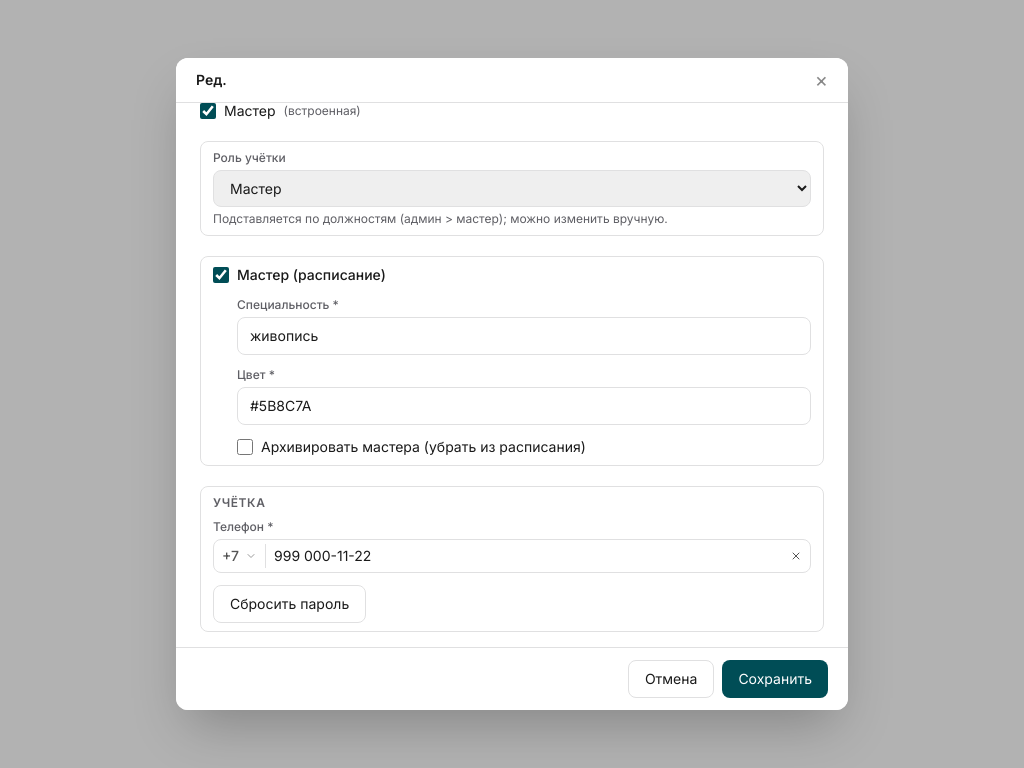
Test: edit: phone save via patchUser (S5) › PHONE_INVALID renders inline too (same §5 domain class), modal open
This screenshot has width=1024, height=768.
(page scrolled)
Replace the text in the field labelled "Телефон *" with "9990001111". click: {"x": 524, "y": 556}
box: [266, 540, 782, 572]
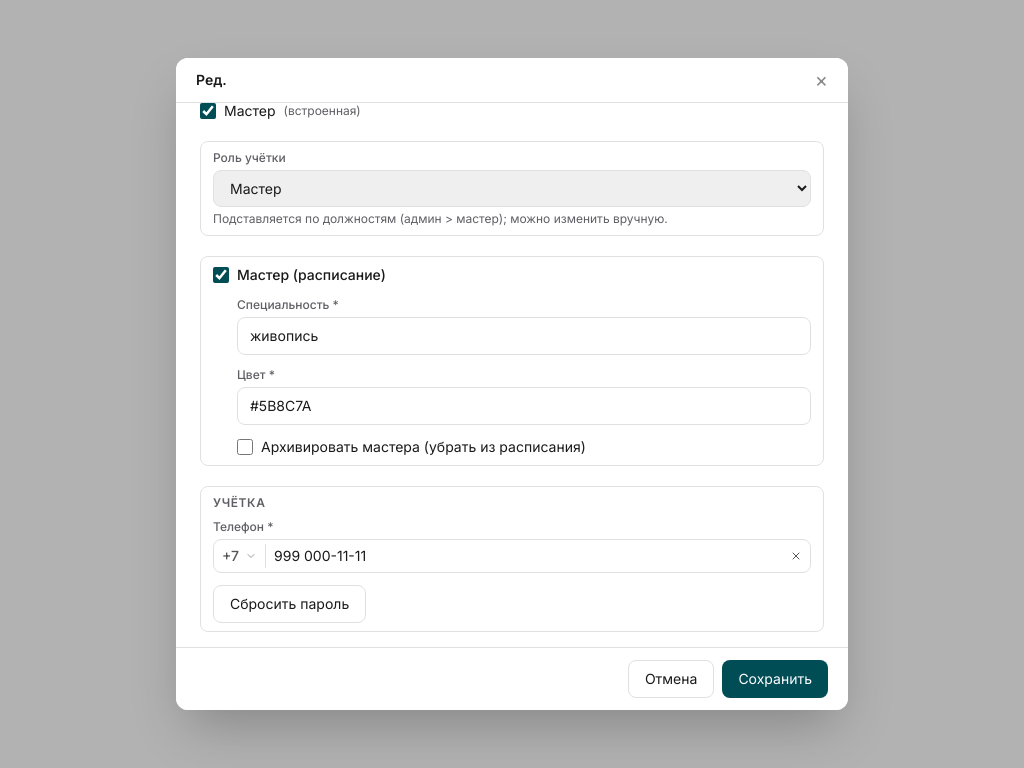
Click the button with test id "staff-modal-save-btn". click: {"x": 775, "y": 679}
box: [722, 660, 828, 698]
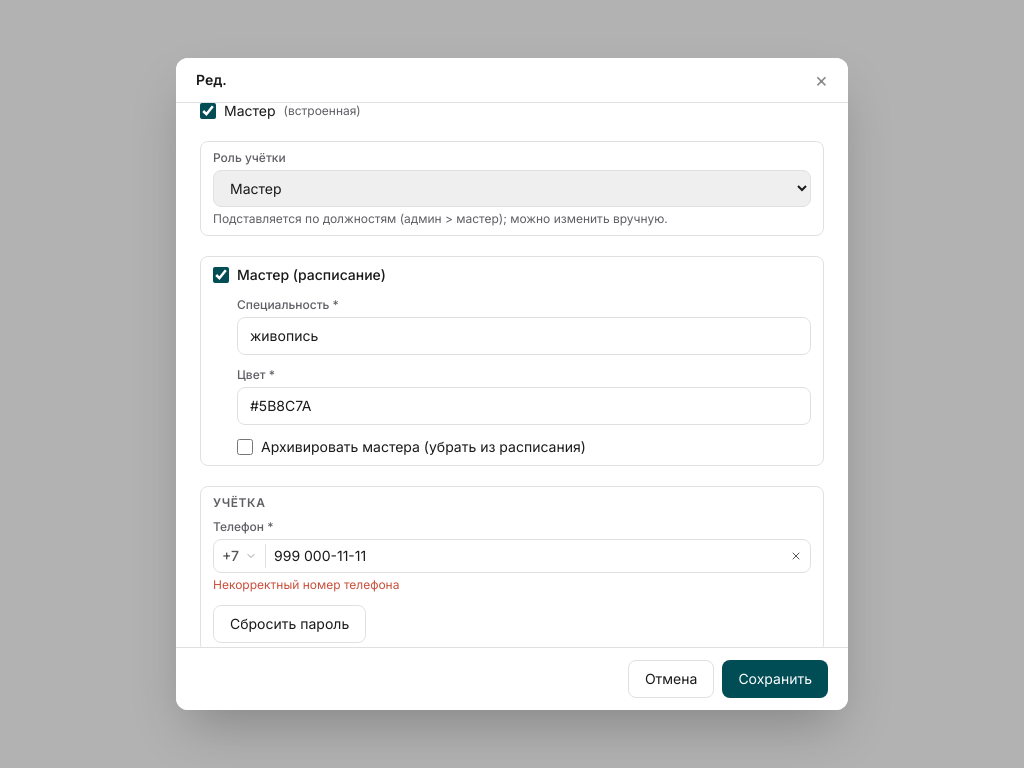
Expected: the text "Некорректный номер телефона" is shown, [213, 577, 399, 592]
